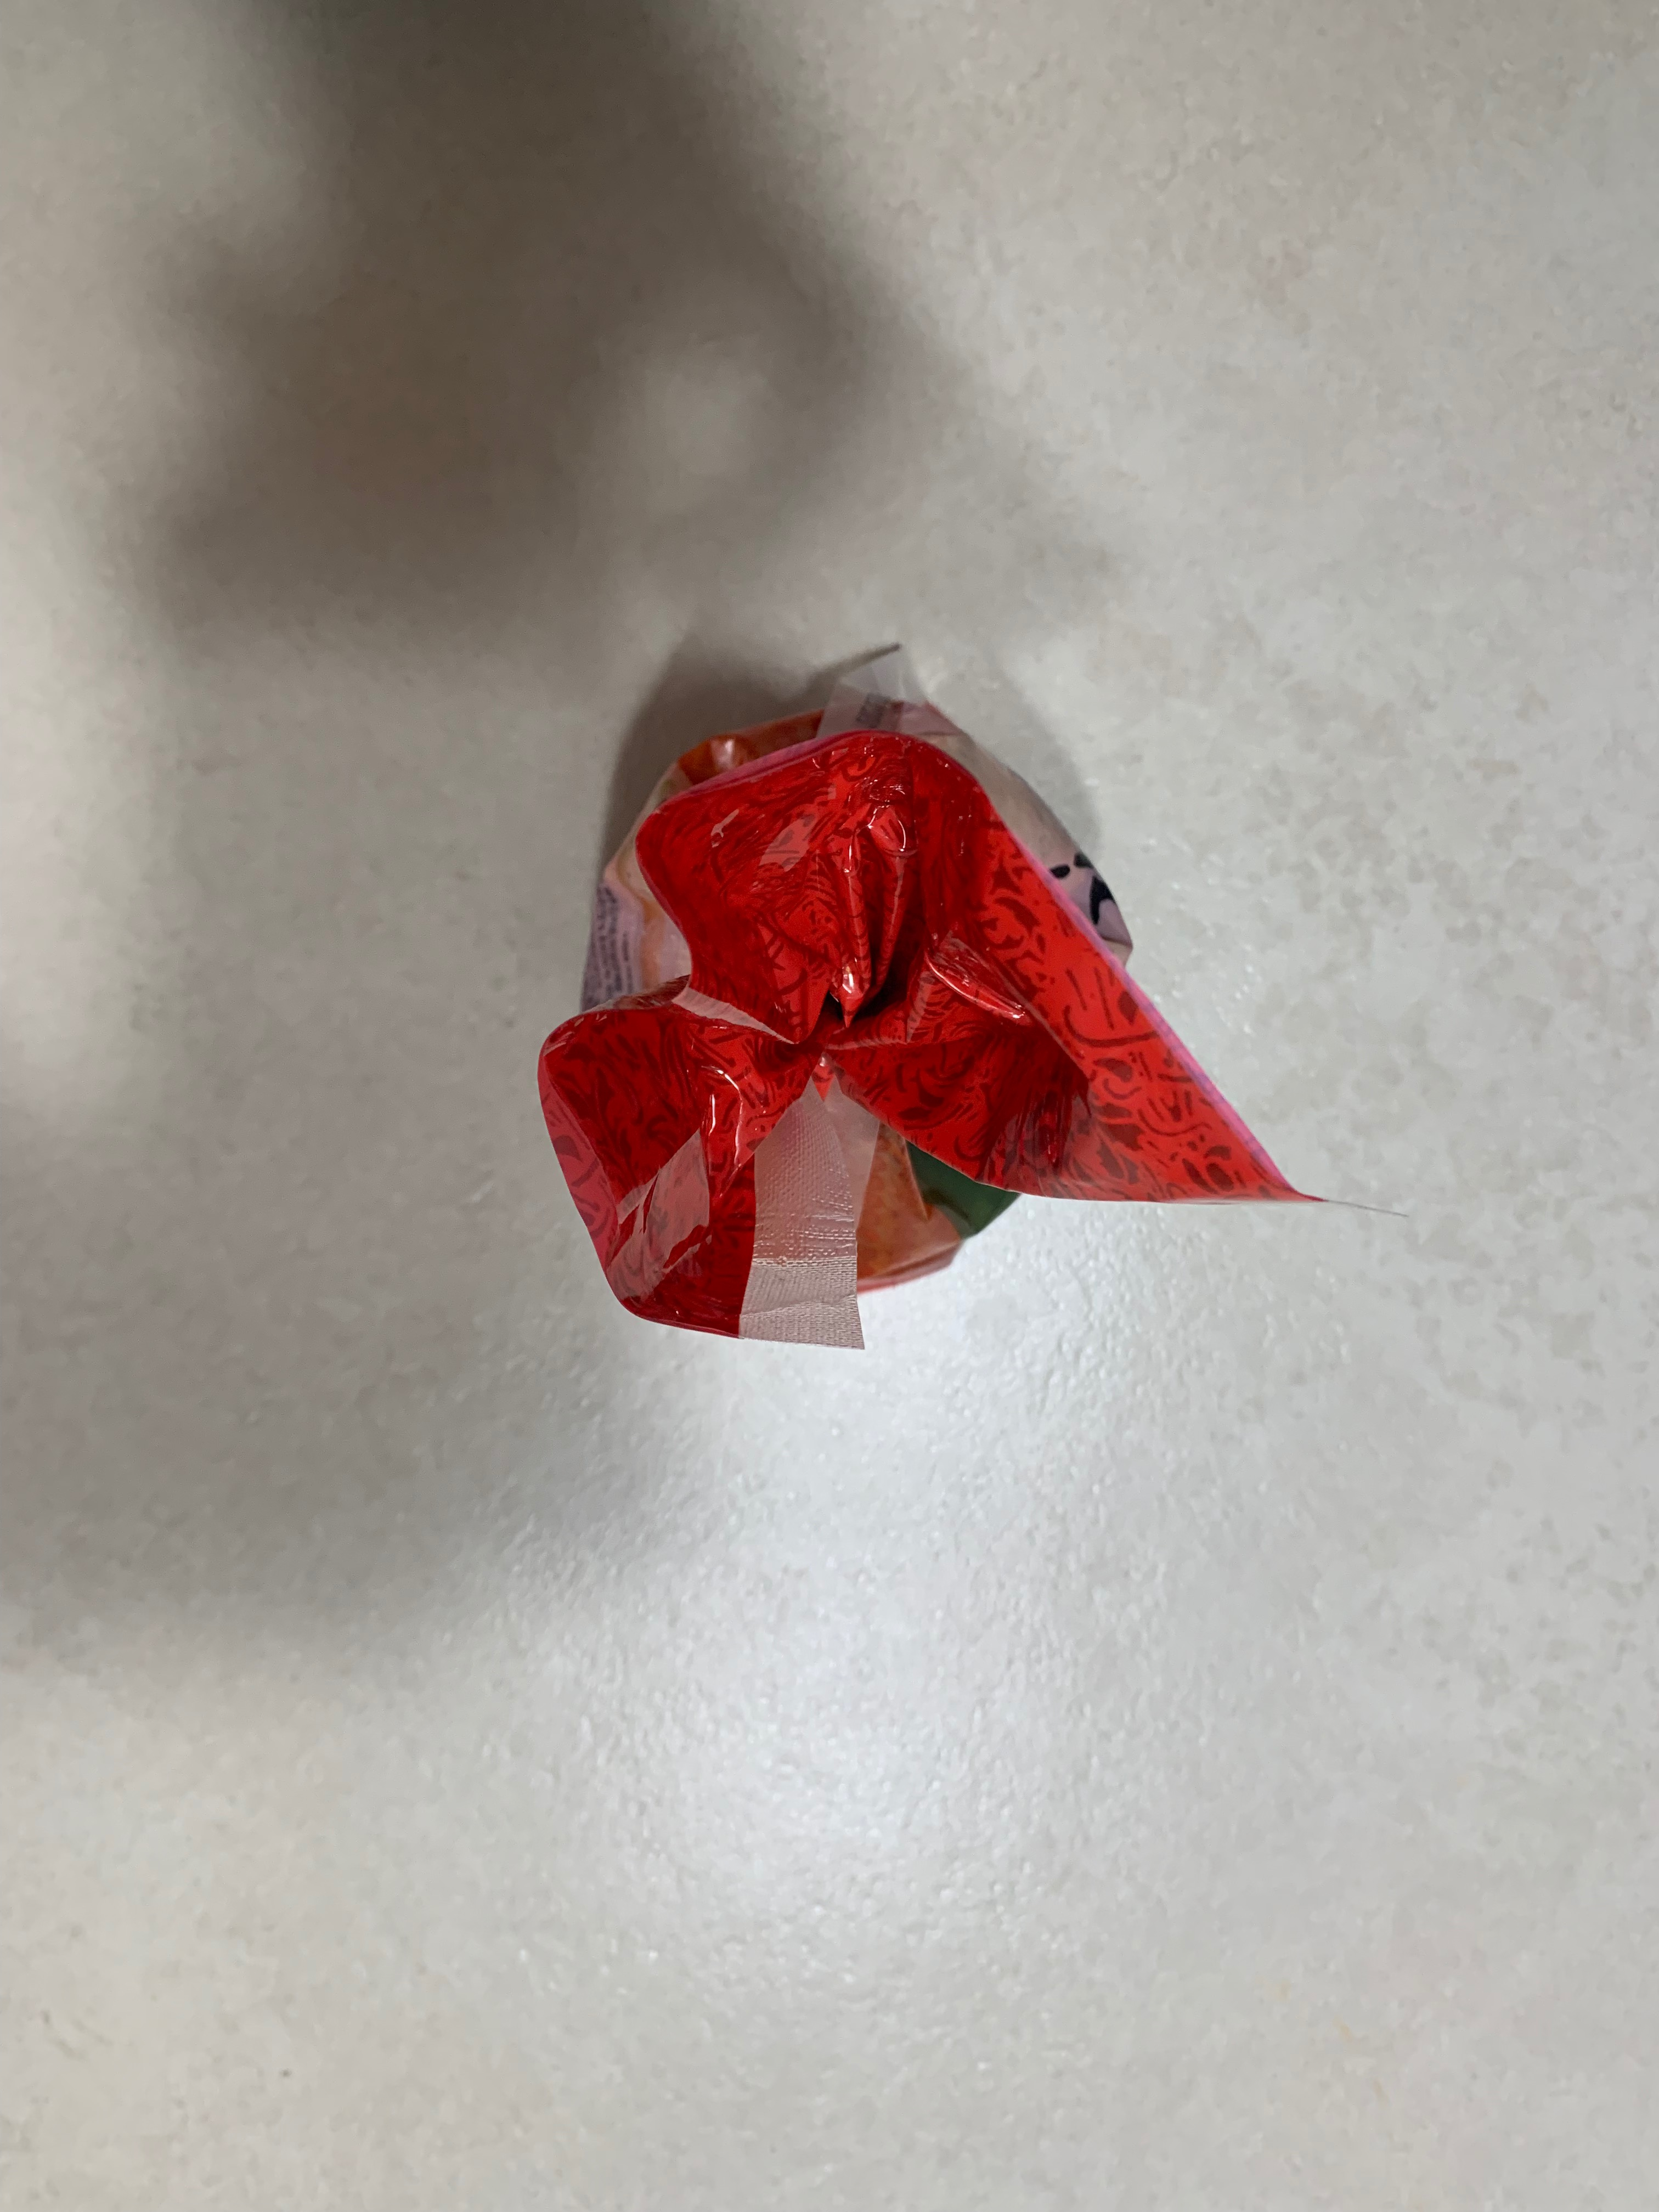kimchi: (538, 700, 1290, 1350)
